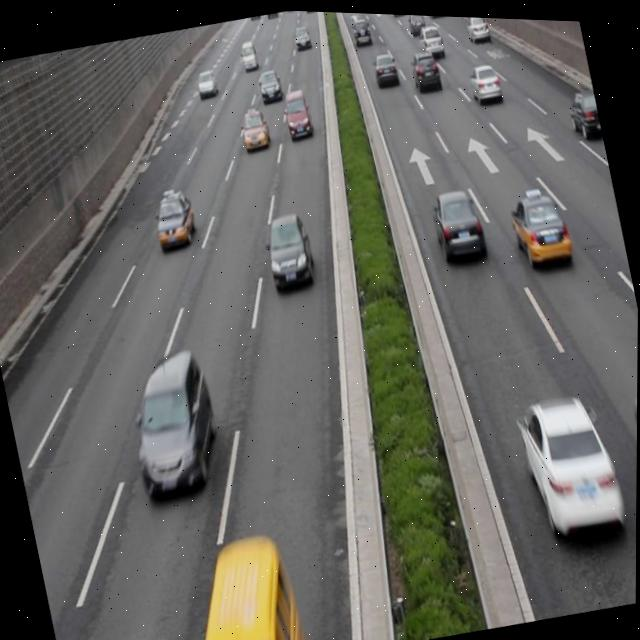car: (510, 377, 627, 538), (120, 343, 228, 500), (508, 184, 575, 267), (427, 179, 490, 265), (260, 205, 319, 293), (149, 184, 200, 251), (563, 77, 604, 140), (407, 44, 444, 94), (465, 55, 503, 102), (236, 101, 271, 151), (626, 377, 638, 519), (369, 45, 400, 90), (254, 67, 283, 103)
truck: (177, 526, 307, 640), (281, 84, 315, 139)
